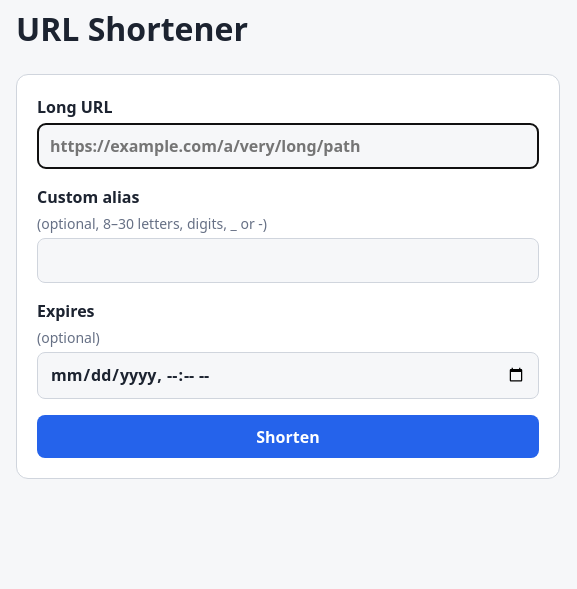
Test: App › sends the expiry as an ISO instant
In the field labelled "Long URL": (288, 146) [37,123,539,169], type "https://example.com"
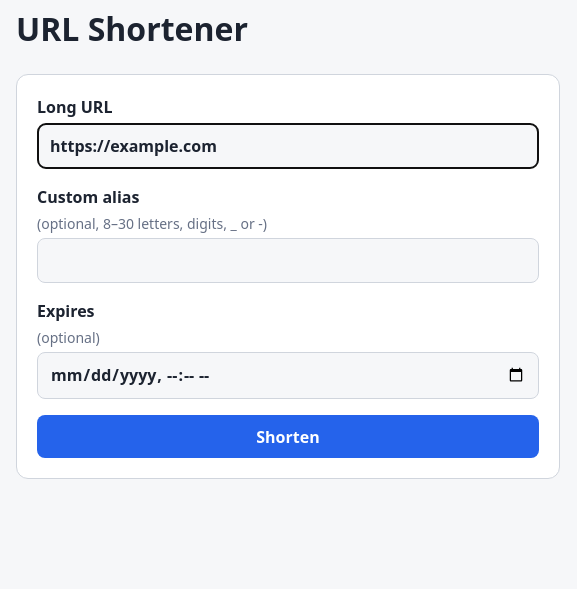
In the field labelled "Expires (optional)": (288, 375) [37,352,539,399], type "2099-01-01T10:30"
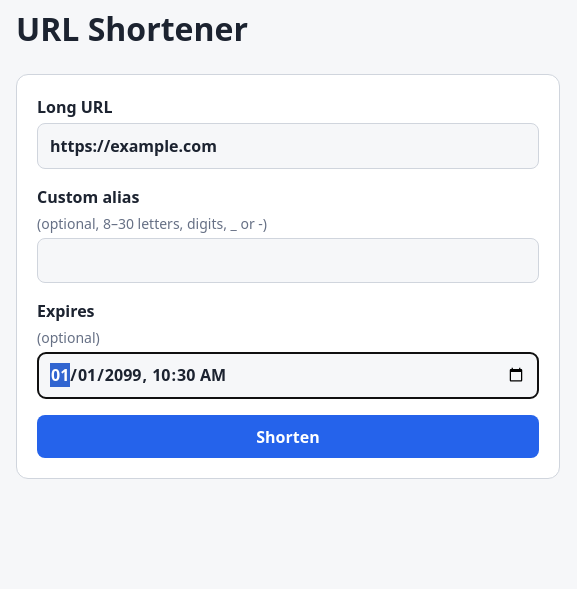
Click the button "Shorten": click(288, 437) [37,415,539,458]
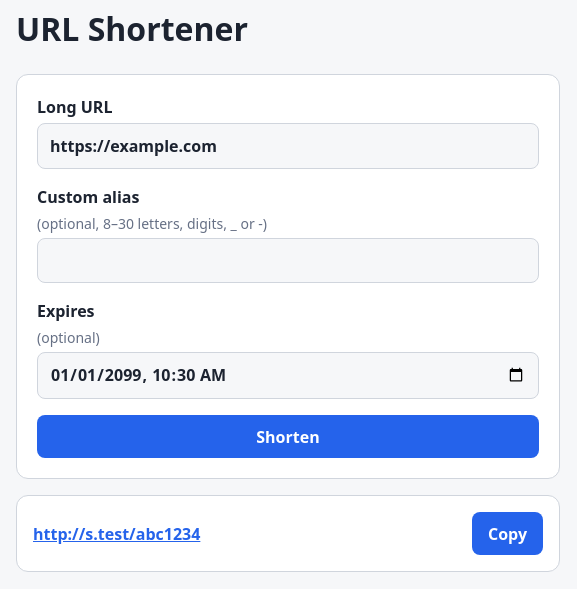
Now the link "http://s.test/abc1234" is shown, box [33,522,200,546]
